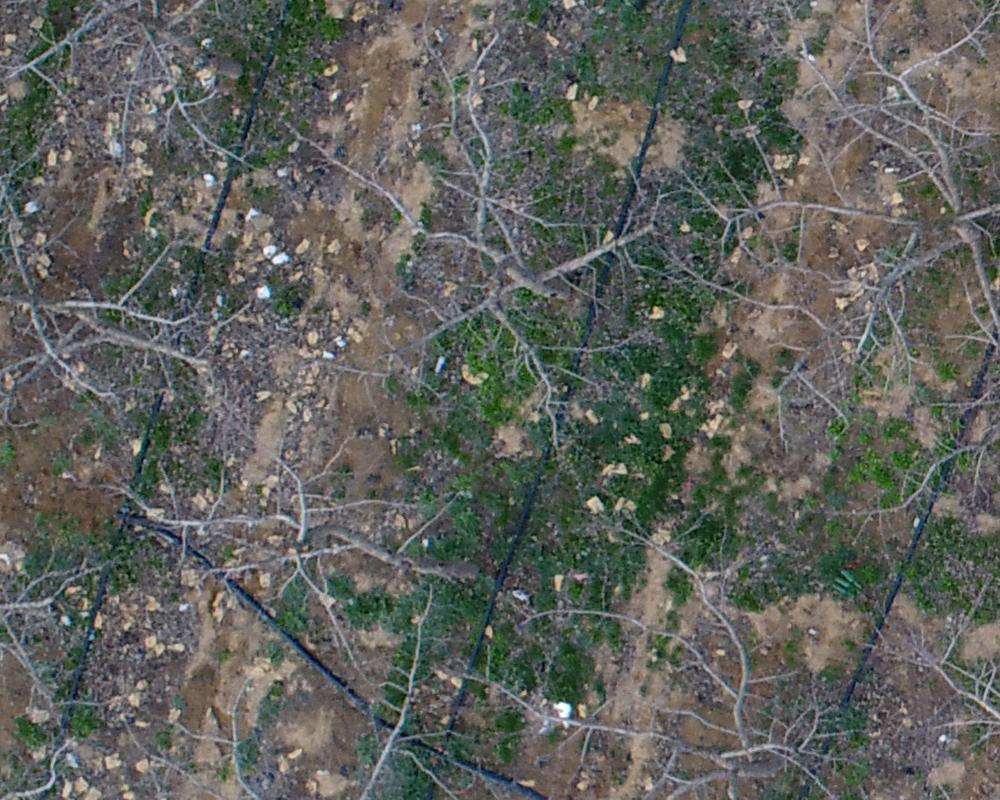apple: (279, 33, 685, 455), (679, 10, 990, 424), (462, 525, 869, 790), (105, 435, 487, 703), (10, 107, 233, 477)
